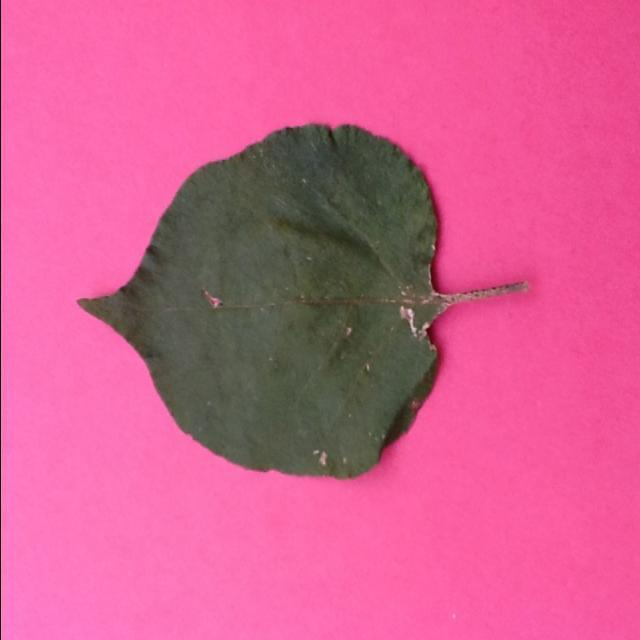foliage: (72, 122, 526, 484)
